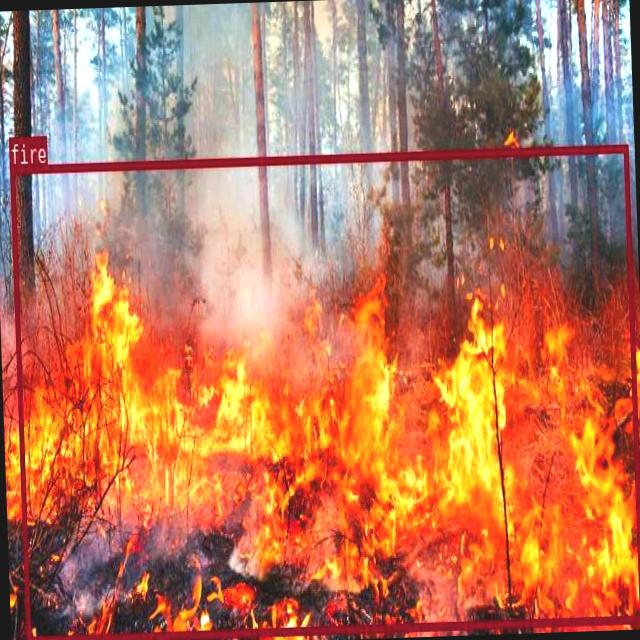fire: (9, 143, 640, 640)
